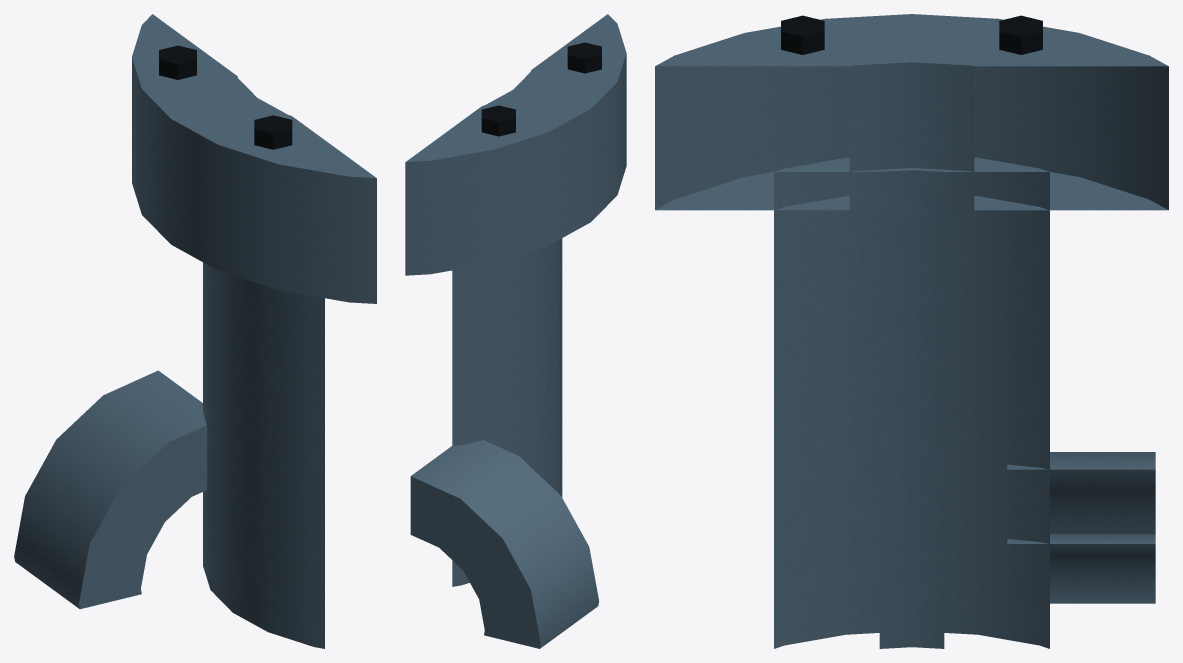
File: cell_53.obj
3 renders of one model, left to right at view 1: azimuth 30°, elevation 25°; view 2: azimuth 150°, elevation 25°; view 3: azimuth 270°, elevation 25°, orthographic. The views are drawn at different scales.
Parts seen in each view (by area): view 1: cell_53; view 2: cell_53; view 3: cell_53.
Part boxes in pixels (x1,y1,x2,y2): cell_53: (14, 14, 376, 648); cell_53: (405, 14, 626, 648); cell_53: (655, 14, 1168, 648).
Bounding box in the file's own units: 0.108 × 0.3754 × 0.2909.
